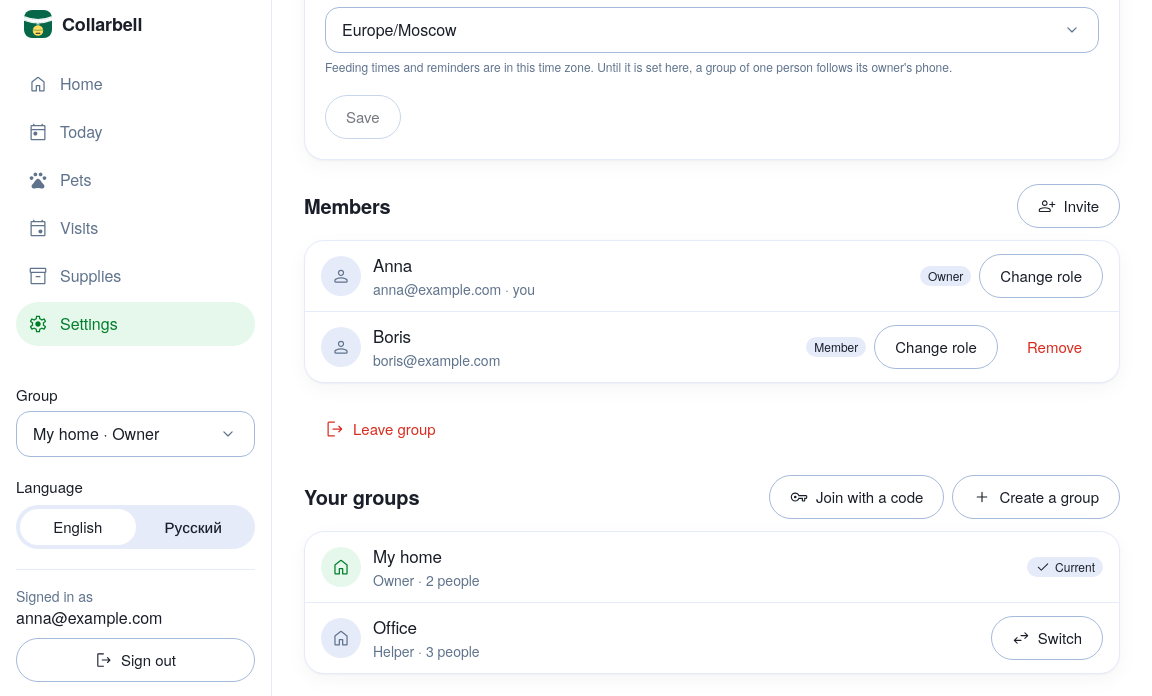
Test: an owner › removes someone after asking
(page scrolled)
Step 1. Click the button with aria-label "Remove from group: Boris" → [1054, 347], box [1006, 325, 1103, 369]
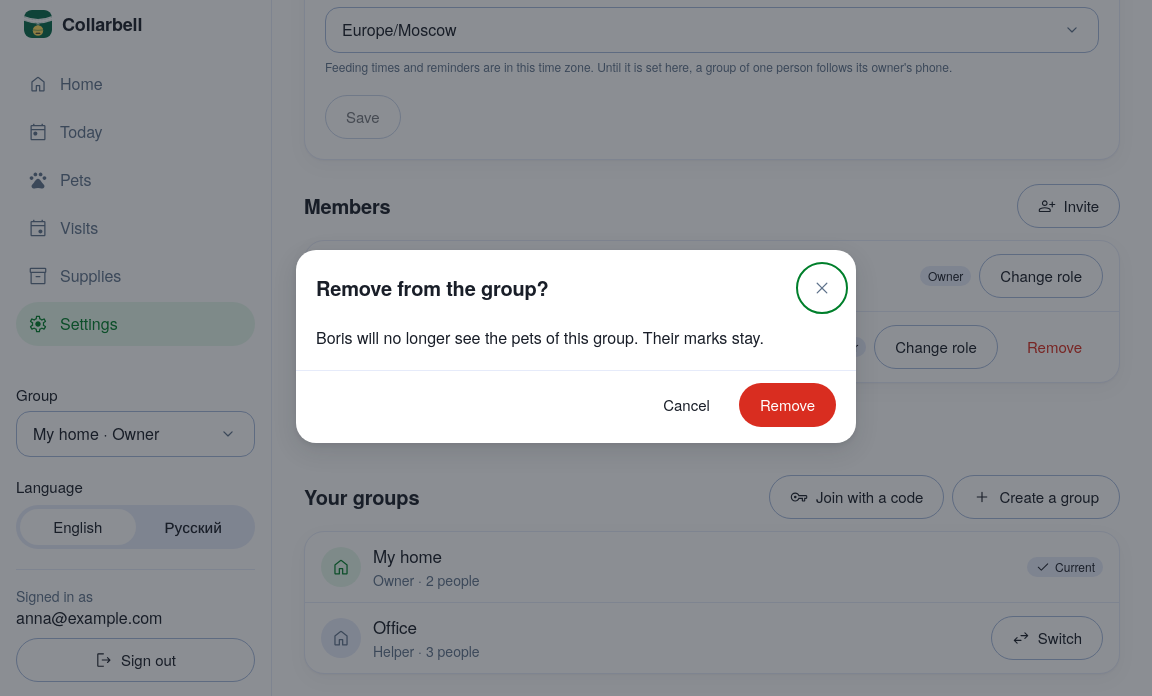
Expected: the text "Boris will no longer see the pets of this group. Their marks stay." is shown, [316, 326, 836, 350]
Step 2. Click the button "Remove" → [787, 404], box [739, 382, 836, 426]
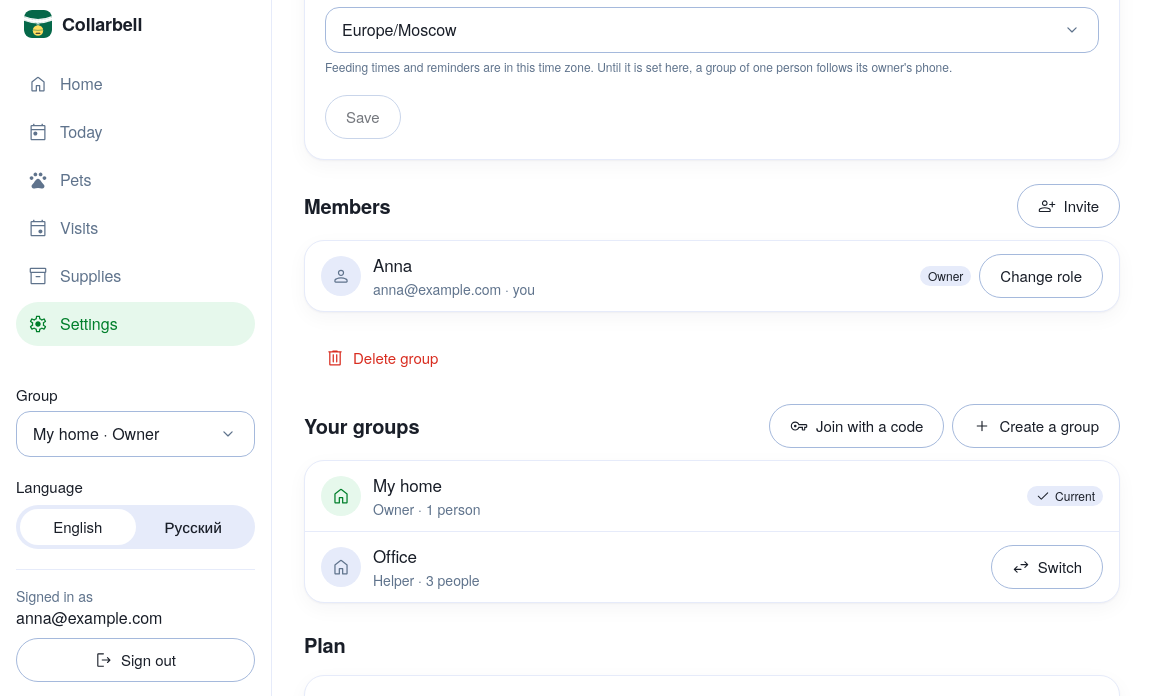
Expected: the text "Boris" is gone
